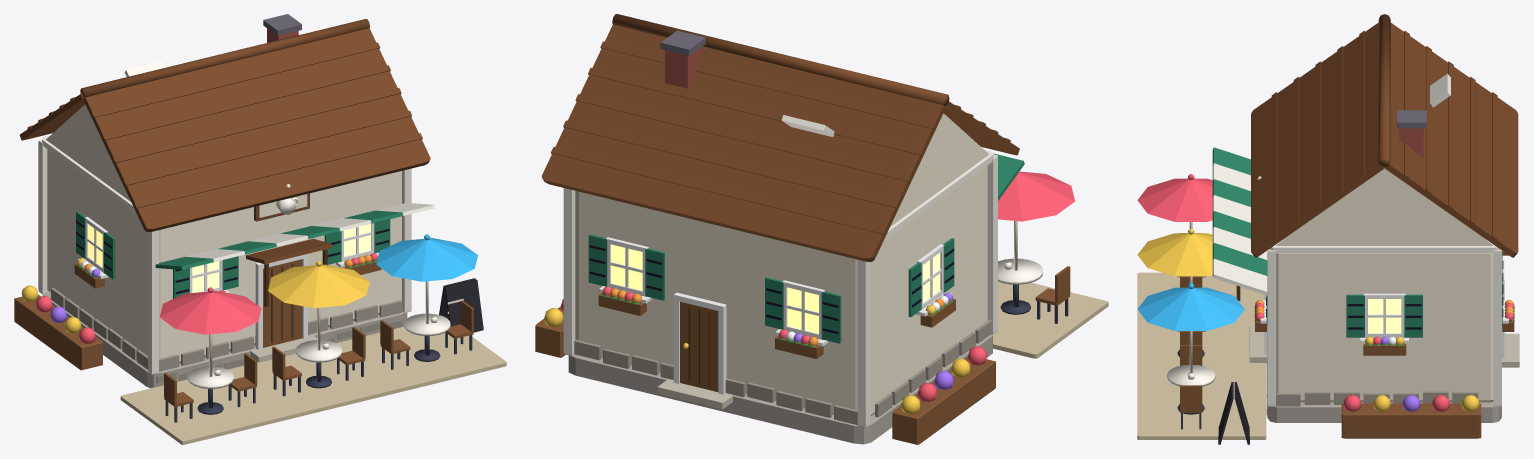
The model's file is kavarna.glb.
3 renders of one model, left to right at view 1: azimuth 30°, elevation 25°; view 2: azimuth 150°, elevation 25°; view 3: azimuth 270°, elevation 25°, orthographic. The views are drawn at different scales.
Visible parts, largest first — view 1: kavarna; view 2: kavarna; view 3: kavarna.
Part boxes in pixels (x1,y1,x2,y2): kavarna: (14,14,506,444); kavarna: (535,14,1108,444); kavarna: (1137,14,1519,444).
Bounding box in the file's own units: 7.6 × 5.7 × 7.11.
2 materials, 2 textured.
